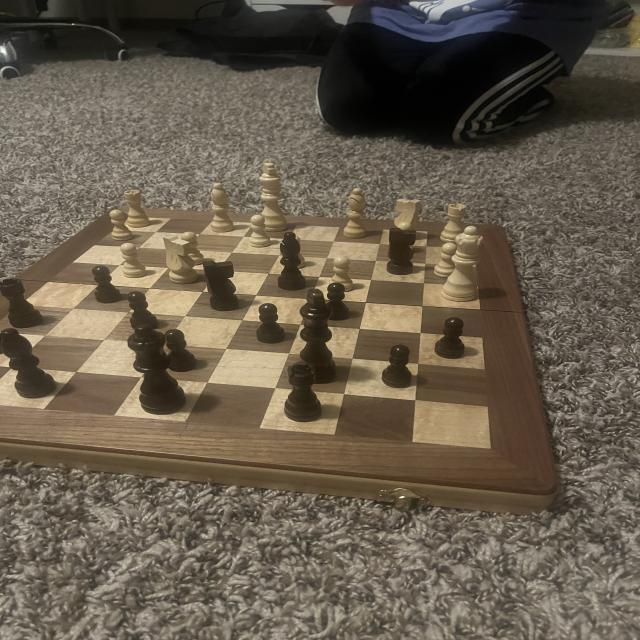bishop: (0, 328, 61, 400), (274, 229, 310, 291)
black-bishop: (289, 286, 343, 386)
black-king: (382, 224, 422, 279), (202, 258, 241, 311)
black-knight: (160, 327, 199, 373), (433, 316, 471, 361), (254, 301, 290, 345), (380, 344, 414, 389), (90, 263, 126, 303), (125, 289, 159, 331), (323, 282, 354, 321)
black-pawn: (126, 320, 189, 416)
black-queen: (277, 360, 326, 426), (0, 277, 48, 332)
black-rook: (208, 181, 238, 234), (340, 187, 370, 240)
white-bishop: (252, 160, 292, 232)
white-king: (162, 232, 202, 284), (389, 195, 425, 237)
white-knight: (118, 241, 149, 279), (106, 207, 136, 244), (328, 254, 356, 292), (431, 240, 458, 278), (245, 214, 273, 250), (281, 232, 308, 269), (180, 230, 206, 267), (395, 220, 417, 253)
white-pawn: (439, 223, 486, 303)
white-queen: (122, 188, 153, 230), (438, 202, 468, 244)
